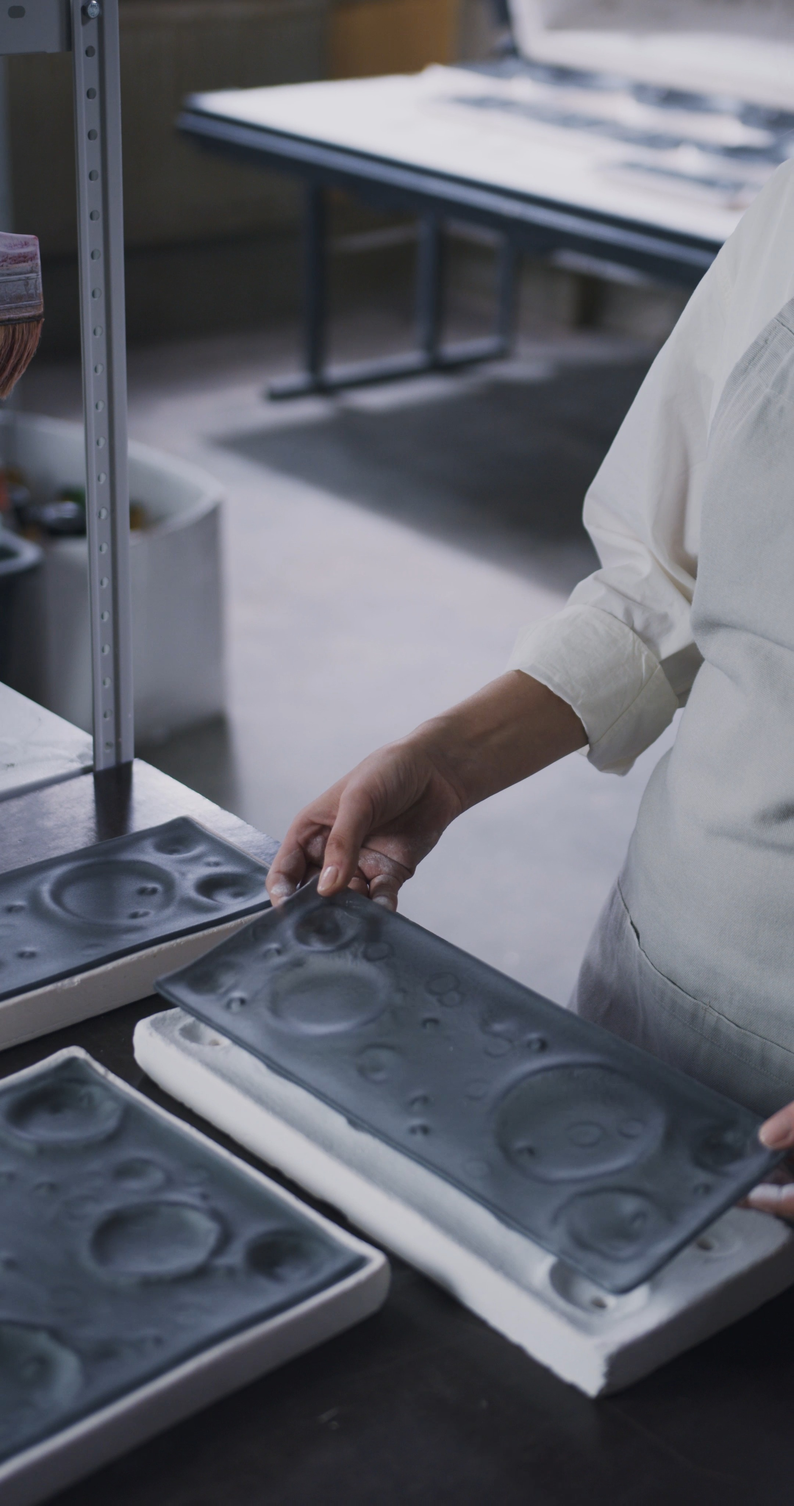No-gloves: (246, 743, 506, 926), (636, 1018, 794, 1318)
